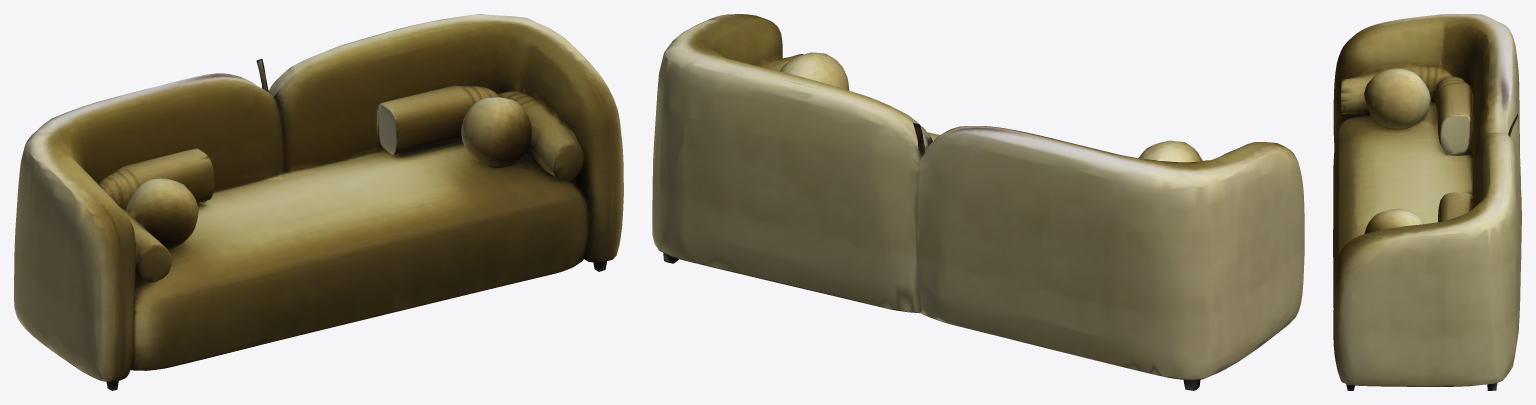
3 renders of one model, left to right at view 1: azimuth 30°, elevation 25°; view 2: azimuth 150°, elevation 25°; view 3: azimuth 270°, elevation 25°, orthographic. The views are drawn at different scales.
Visible parts, largest first — view 1: geometry_0; view 2: geometry_0; view 3: geometry_0.
Part boxes in pixels (box(x1,y1,x2,y2)): geometry_0: box(14, 14, 623, 390); geometry_0: box(652, 14, 1304, 390); geometry_0: box(1333, 14, 1521, 390).
Bounding box in the file's own units: 0.9999 × 0.3678 × 0.3535.
1 material, 1 textured.
